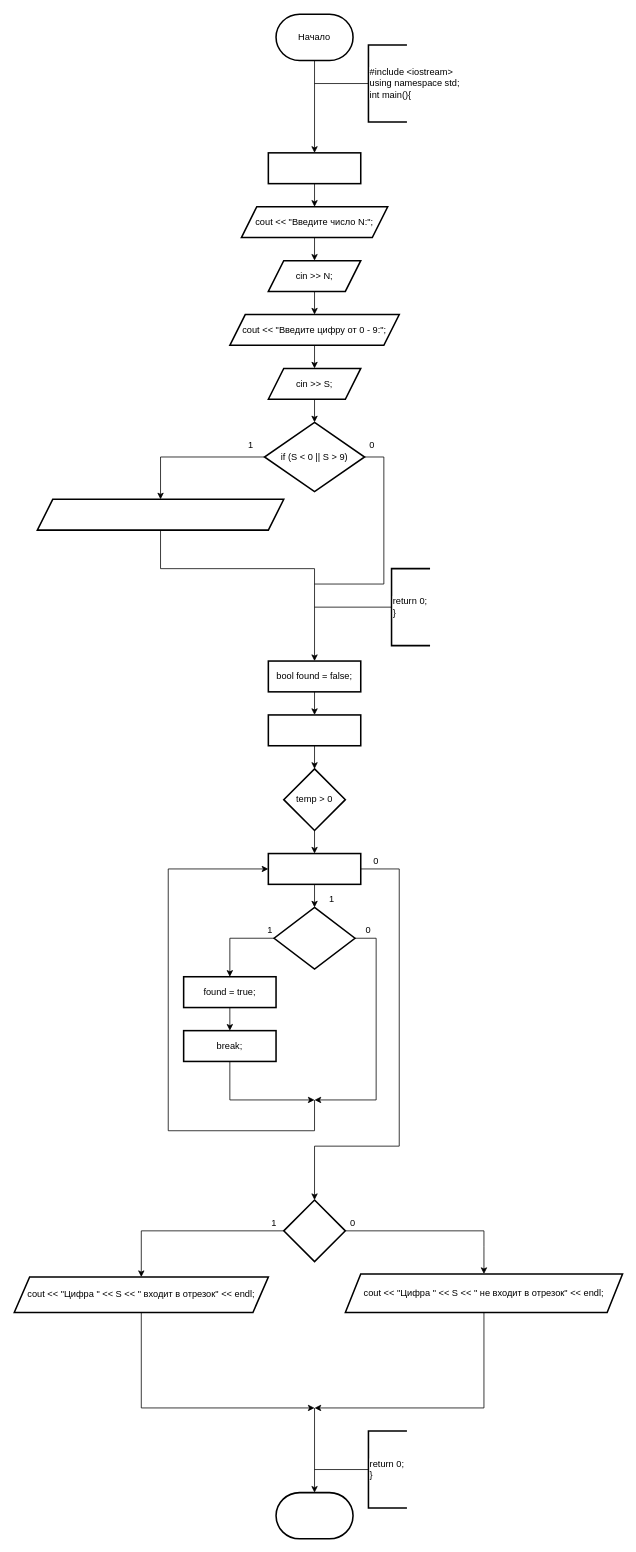
This 636x1552 diagram has some shape labels left out. Here are the shapes that lost their labels. From the top down, the centre of each, then its label:
(314,168): int N, S;
(160,514): cout << "S - Цифра должна быть от 0 - 9:" << endl;
(314,730): int temp = N;
(314,868): int lc = temp % 10;
(314,937): if (lc == S)
(314,1230): if (found)
(314,1515): Конец
